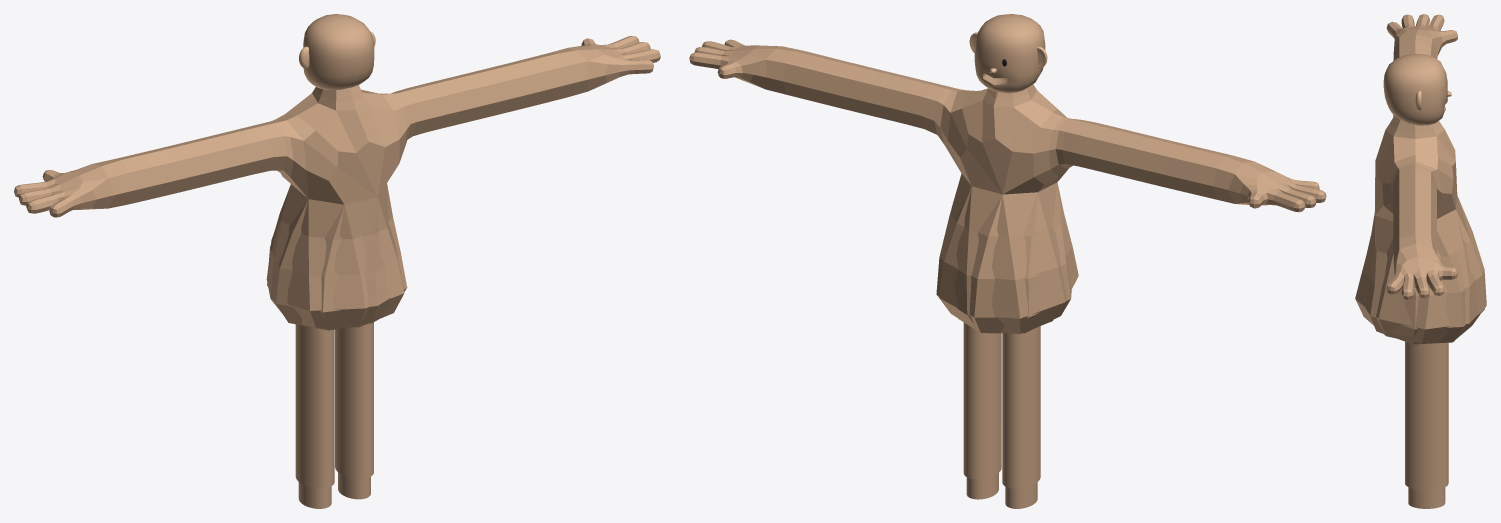
The model's file is body_template.gltf.
The picture shows the model from 3 angles, left to right: view 1: azimuth 30°, elevation 25°; view 2: azimuth 150°, elevation 25°; view 3: azimuth 270°, elevation 25°; orthographic projection. The views are drawn at different scales.
Parts seen in each view (by area): view 1: body, legs, head; view 2: body, legs, head; view 3: body, legs, head.
Part boxes in pixels (x1,y1,x2,y2): body: [14, 36, 660, 330]; legs: [295, 322, 373, 508]; head: [303, 14, 374, 89]; body: [689, 39, 1326, 333]; legs: [963, 322, 1040, 508]; head: [974, 14, 1045, 93]; body: [1355, 14, 1486, 344]; legs: [1405, 341, 1448, 508]; head: [1383, 54, 1447, 125].
Bounding box in the file's own units: 3.79 × 2.75 × 0.7563.
